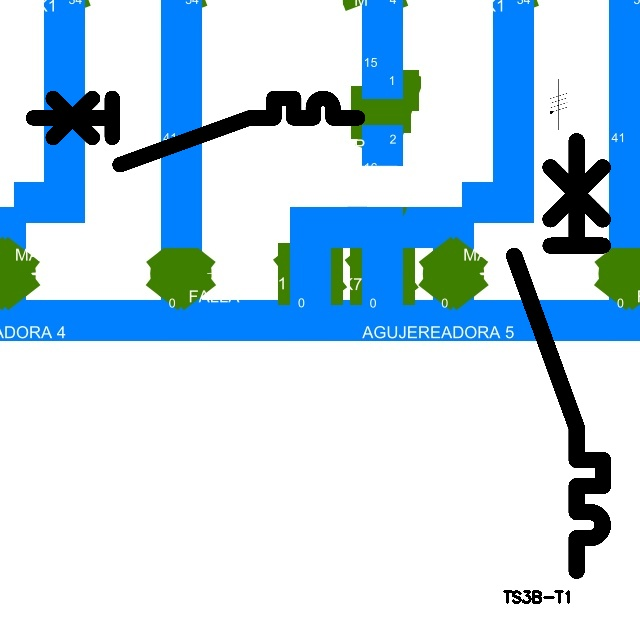interruptor_termomagnetico: (503, 130, 614, 582), (25, 90, 366, 173)
